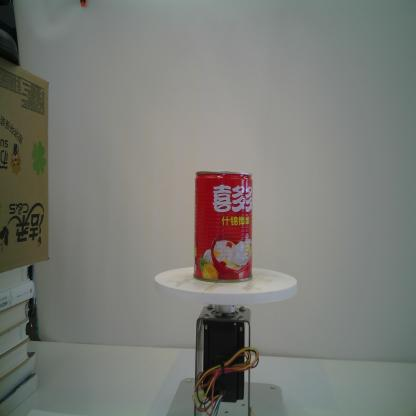Canned Food: (193, 171, 253, 282)
